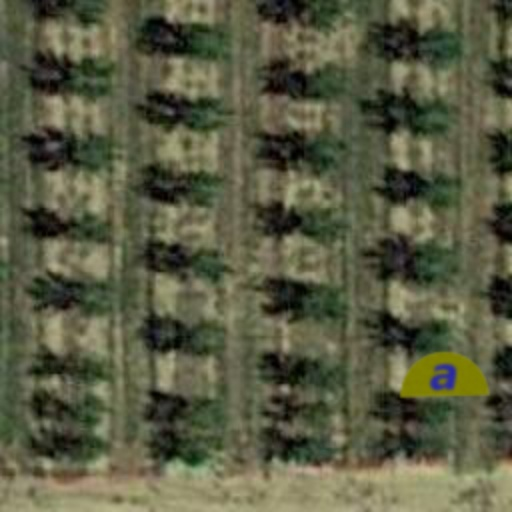semicircle: (398, 328, 490, 420)
